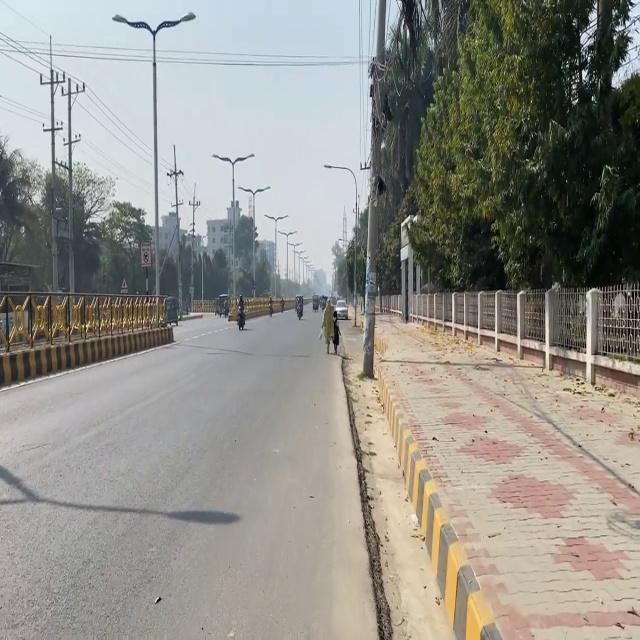Construction-barrier: (373, 319, 504, 639), (339, 352, 392, 638)
Fallen-tree: (294, 294, 303, 319)
Light-pole: (361, 0, 387, 378)
Pole: (0, 288, 160, 374)
Pothole: (359, 310, 639, 639)
Rickshaw: (139, 242, 152, 267)
